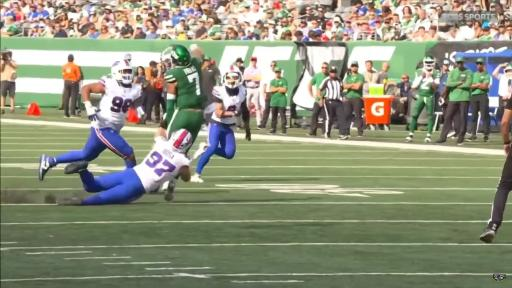Helmet: (161, 45, 191, 67), (168, 129, 192, 153), (111, 59, 132, 84), (222, 71, 243, 89), (423, 54, 436, 71)
Jersey: (134, 137, 191, 191), (92, 76, 144, 131), (164, 58, 205, 108), (214, 87, 245, 113), (417, 66, 441, 99)
Player: (38, 58, 144, 181), (57, 129, 191, 205), (191, 70, 250, 182), (157, 45, 206, 144), (407, 53, 442, 141), (164, 178, 177, 200)
